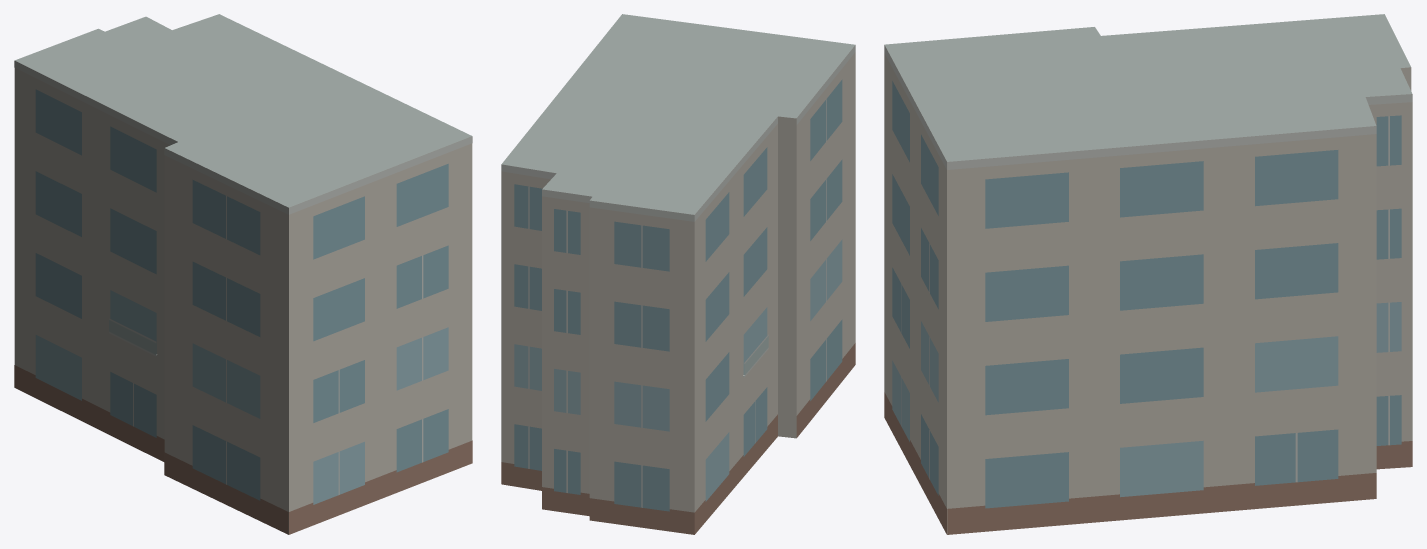
The model's file is survey-upis-32689976.glb.
3 renders of one model, left to right at view 1: azimuth 30°, elevation 25°; view 2: azimuth 150°, elevation 25°; view 3: azimuth 270°, elevation 25°, orthographic. The views are drawn at different scales.
Visible parts, largest first — view 1: survey-upis-32689976.tmp; view 2: survey-upis-32689976.tmp; view 3: survey-upis-32689976.tmp.
Boxes of the visible parts, <box> form: survey-upis-32689976.tmp: <box>14,14,472,534</box>; survey-upis-32689976.tmp: <box>501,14,855,534</box>; survey-upis-32689976.tmp: <box>884,14,1412,534</box>.
Size of the model in its own units: 9.56 by 11.22 by 14.41.
